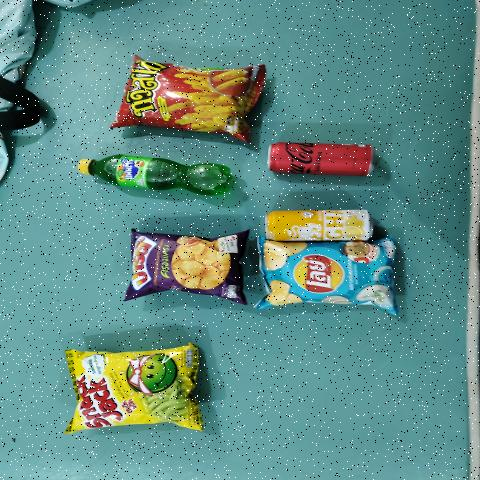coke_red: (270, 140, 373, 180)
fanta_green: (73, 153, 225, 193)
lay_blue: (274, 241, 394, 303)
party_purple: (133, 236, 234, 291)
singha_yellow: (272, 209, 367, 241)
snack_jack: (79, 348, 189, 428)
twisco: (127, 66, 248, 134)
